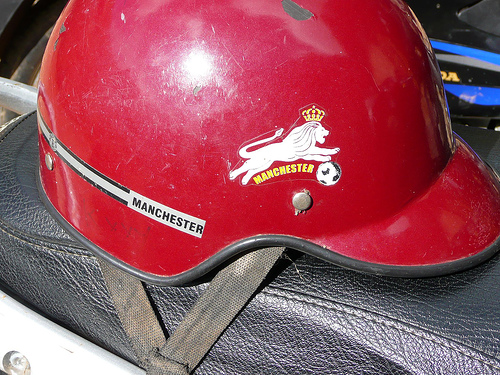helmet: (33, 1, 500, 277)
